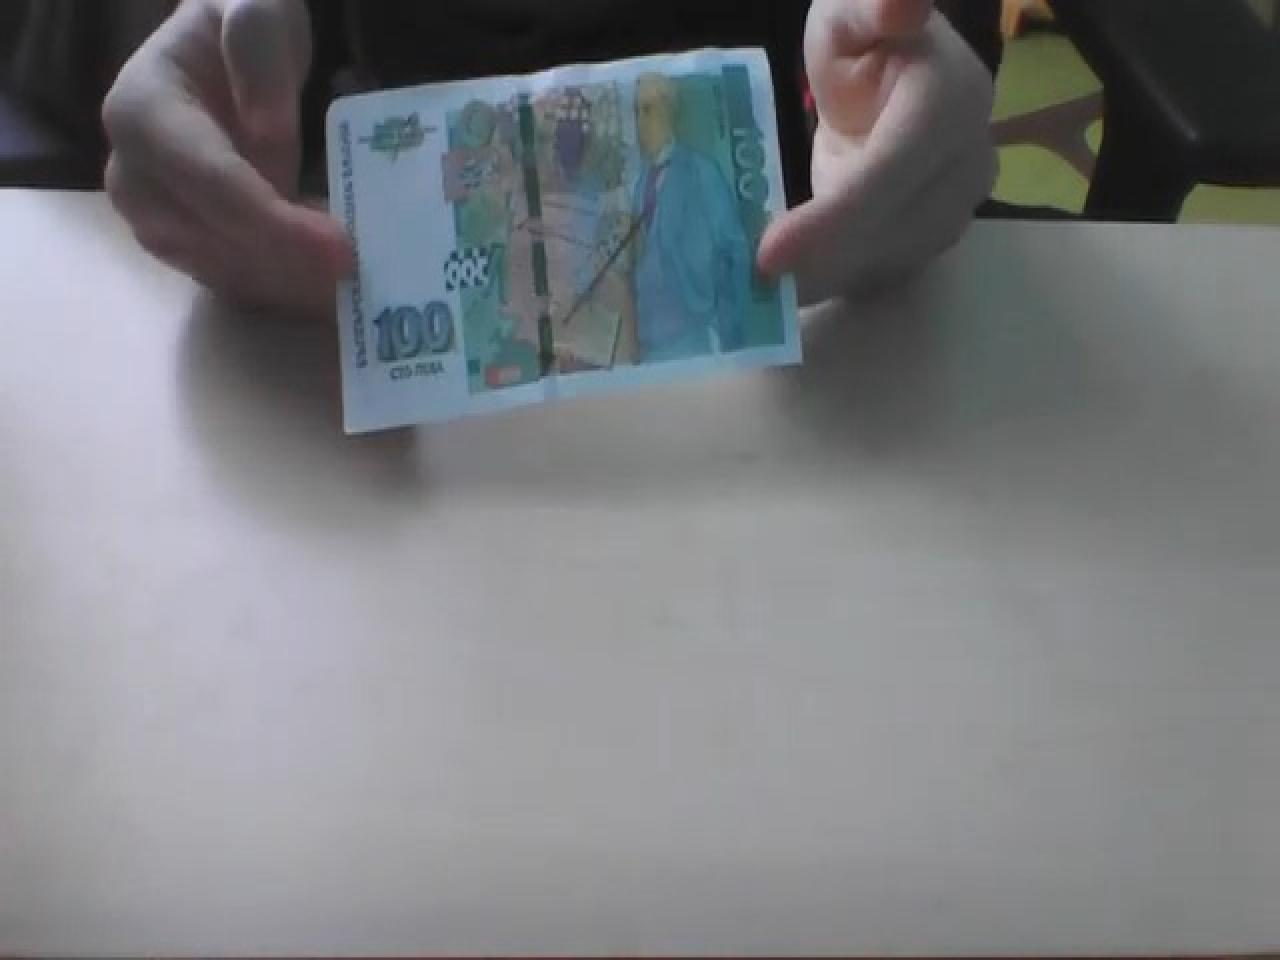100leva: (324, 42, 804, 435), (368, 296, 454, 363)
